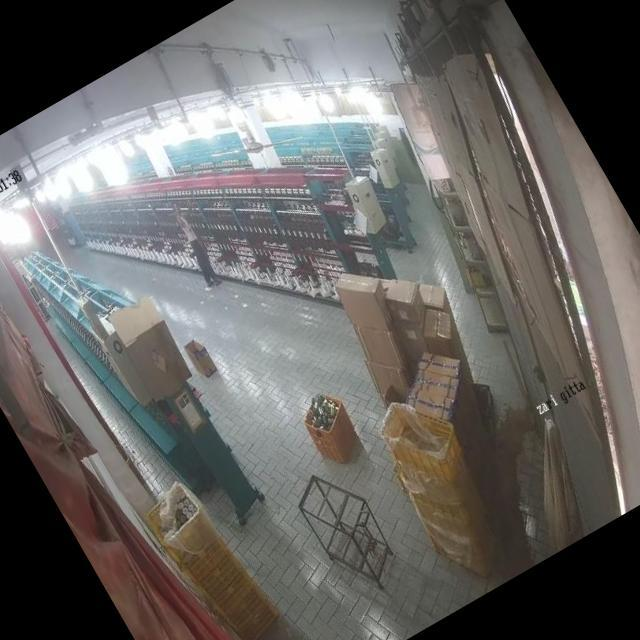person: (167, 204, 225, 290)
